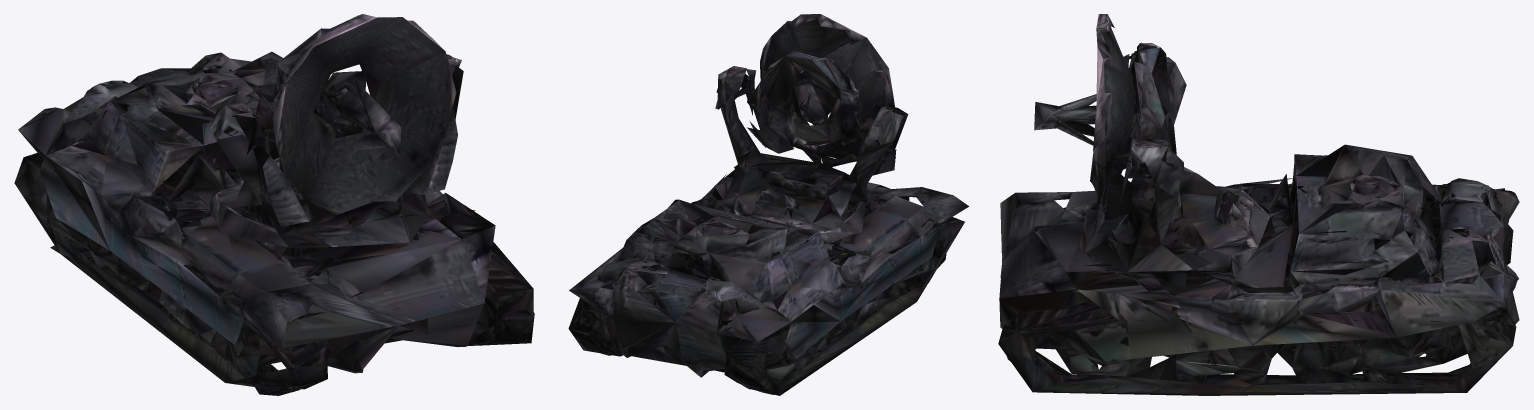
Rendered from sonic_1_reduced_parts.glb.
3 renders of one model, left to right at view 1: azimuth 30°, elevation 25°; view 2: azimuth 150°, elevation 25°; view 3: azimuth 270°, elevation 25°, orthographic. The views are drawn at different scales.
Visible parts, largest first — view 1: Mesh_0, Mesh_0.001, Mesh_0.002; view 2: Mesh_0, Mesh_0.002, Mesh_0.001; view 3: Mesh_0, Mesh_0.002, Mesh_0.001.
Part boxes in pixels (<box>): Mesh_0: <box>14,51,534,395</box>; Mesh_0.001: <box>253,14,457,226</box>; Mesh_0.002: <box>161,28,463,247</box>; Mesh_0: <box>568,169,968,395</box>; Mesh_0.002: <box>691,47,908,262</box>; Mesh_0.001: <box>746,14,896,175</box>; Mesh_0: <box>998,144,1519,395</box>; Mesh_0.002: <box>1072,42,1292,294</box>; Mesh_0.001: <box>1034,14,1134,234</box>.
Size of the model in its own units: 0.5547 by 0.6617 by 0.9776.
1 material, 1 textured.
